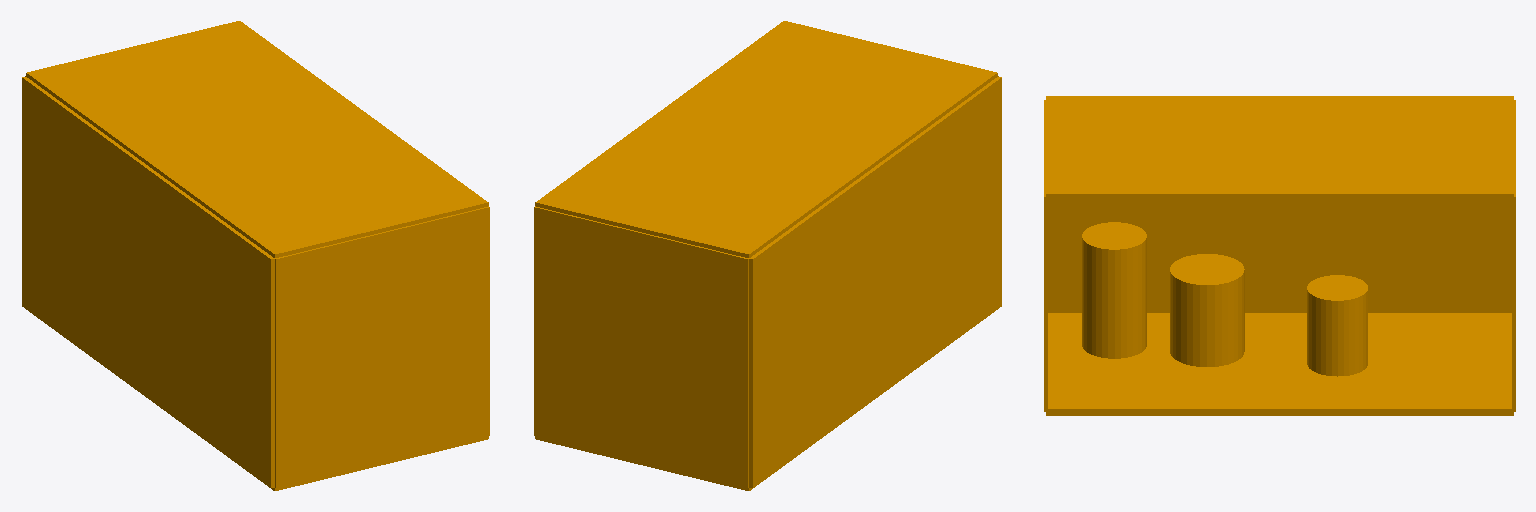
robot.urdf — syn_can_cabinet_2320:
<?xml version="1.0" ?>
<robot name="syn_can_cabinet_2320">
    <link concave="yes" name="base_link">
        <inertial>
            <origin rpy="0 0 0" xyz="0 0 0"/>
            <mass value="0.0"/>
            <inertia ixx="1e-08" ixy="0" ixz="0" iyy="1e-08" iyz="0" izz="1e-08"/>
        </inertial>
        <visual>
            <origin xyz="0 0 0" rpy="0 0 0" />
            <geometry>
                <mesh filename="syn_can_cabinet_2320.obj" scale="1.000000 1.000000 1.000000"/>
            </geometry>         
        </visual>

        <collision concave="yes">
            <origin xyz="0 0 0" rpy="0 0 0"/>
            <geometry>
                <mesh filename="syn_can_cabinet_2320.obj" scale="1.000000 1.000000 1.000000"/>
            </geometry>
        </collision>
    </link>
</robot>
    

--- Render facts (derived) ---
Views: 3 orthographic renders of the robot side by side, from view 1: azimuth 30°, elevation 25°; view 2: azimuth 150°, elevation 25°; view 3: azimuth 270°, elevation 25°.
Robot: syn_can_cabinet_2320 — 1 links, 0 joints (none); root link base_link; default pose: every joint at zero.
Visible links, largest first — view 1: base_link; view 2: base_link; view 3: base_link.
Boxes of the visible links, x1,y1,x2,y2 form: base_link: [22, 21, 489, 490]; base_link: [534, 21, 1001, 490]; base_link: [1044, 96, 1515, 415].
Bounding box of the posed robot: 0.1864 × 0.3723 × 0.194 m (x, y, z).
Meshes: 1 distinct files referenced, 1 mesh visuals loaded (1 OBJ).
